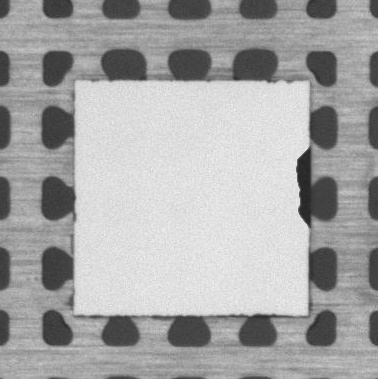DIE_BROKEN: (292, 149, 313, 228)
